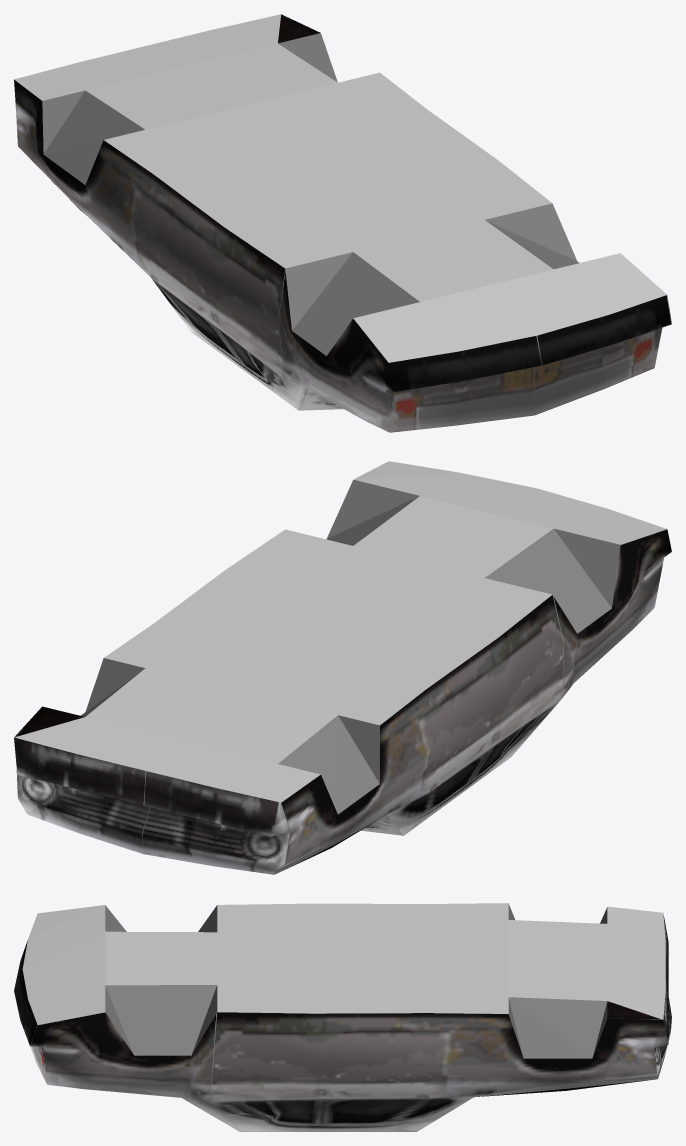
Rendered from RIO_model0_clean.obj.
The picture shows the model from 3 angles, top to bottom: view 1: azimuth 30°, elevation 25°; view 2: azimuth 150°, elevation 25°; view 3: azimuth 270°, elevation 25°; orthographic projection. The views are drawn at different scales.
Visible parts, largest first — view 1: RIO_model0_clean_set1_id8_ft, RIO_model0_clean_flat, RIO_model0_clean_set52_id21, RIO_model0_clean_set52_id5, RIO_model0_clean_set52_id2, RIO_model0_clean_set52_id20, RIO_model0_clean_set52_id12, RIO_model0_clean_set52_id1, RIO_model0_clean_set1_id8; view 2: RIO_model0_clean_set1_id8_ft, RIO_model0_clean_flat, RIO_model0_clean_set52_id21, RIO_model0_clean_set52_id14, RIO_model0_clean_set52_id20, RIO_model0_clean_set52_id17, RIO_model0_clean_set52_id12, RIO_model0_clean_set52_id1, RIO_model0_clean_set1_id8; view 3: RIO_model0_clean_set1_id8_ft, RIO_model0_clean_set52_id21, RIO_model0_clean_set52_id20, RIO_model0_clean_flat, RIO_model0_clean_set52_id12, RIO_model0_clean_set52_id1, RIO_model0_clean_set52_id2, RIO_model0_clean_set52_id17, RIO_model0_clean_set1_id8.
Boxes of the visible parts, x1,y1,x2,y2 form: RIO_model0_clean_set1_id8_ft: [14, 14, 666, 362]; RIO_model0_clean_flat: [42, 33, 579, 355]; RIO_model0_clean_set52_id21: [142, 175, 285, 377]; RIO_model0_clean_set52_id5: [385, 335, 542, 432]; RIO_model0_clean_set52_id2: [534, 295, 671, 414]; RIO_model0_clean_set52_id20: [14, 79, 153, 277]; RIO_model0_clean_set52_id12: [33, 162, 393, 432]; RIO_model0_clean_set52_id1: [151, 278, 306, 410]; RIO_model0_clean_set1_id8: [278, 14, 320, 43]; RIO_model0_clean_set1_id8_ft: [14, 461, 666, 802]; RIO_model0_clean_flat: [81, 479, 620, 814]; RIO_model0_clean_set52_id21: [426, 595, 563, 791]; RIO_model0_clean_set52_id14: [142, 771, 290, 874]; RIO_model0_clean_set52_id20: [14, 690, 438, 874]; RIO_model0_clean_set52_id17: [14, 737, 149, 853]; RIO_model0_clean_set52_id12: [277, 529, 671, 873]; RIO_model0_clean_set52_id1: [387, 699, 561, 835]; RIO_model0_clean_set1_id8: [14, 706, 84, 737]; RIO_model0_clean_set1_id8_ft: [22, 903, 665, 1024]; RIO_model0_clean_set52_id21: [210, 1012, 428, 1101]; RIO_model0_clean_set52_id20: [429, 1013, 668, 1098]; RIO_model0_clean_flat: [105, 904, 607, 1058]; RIO_model0_clean_set52_id12: [30, 1012, 652, 1100]; RIO_model0_clean_set52_id1: [182, 1097, 473, 1131]; RIO_model0_clean_set52_id2: [14, 970, 47, 1083]; RIO_model0_clean_set52_id17: [654, 969, 671, 1078]; RIO_model0_clean_set1_id8: [607, 1001, 662, 1019].
Bounding box in the file's own units: 262 × 142 × 612.
